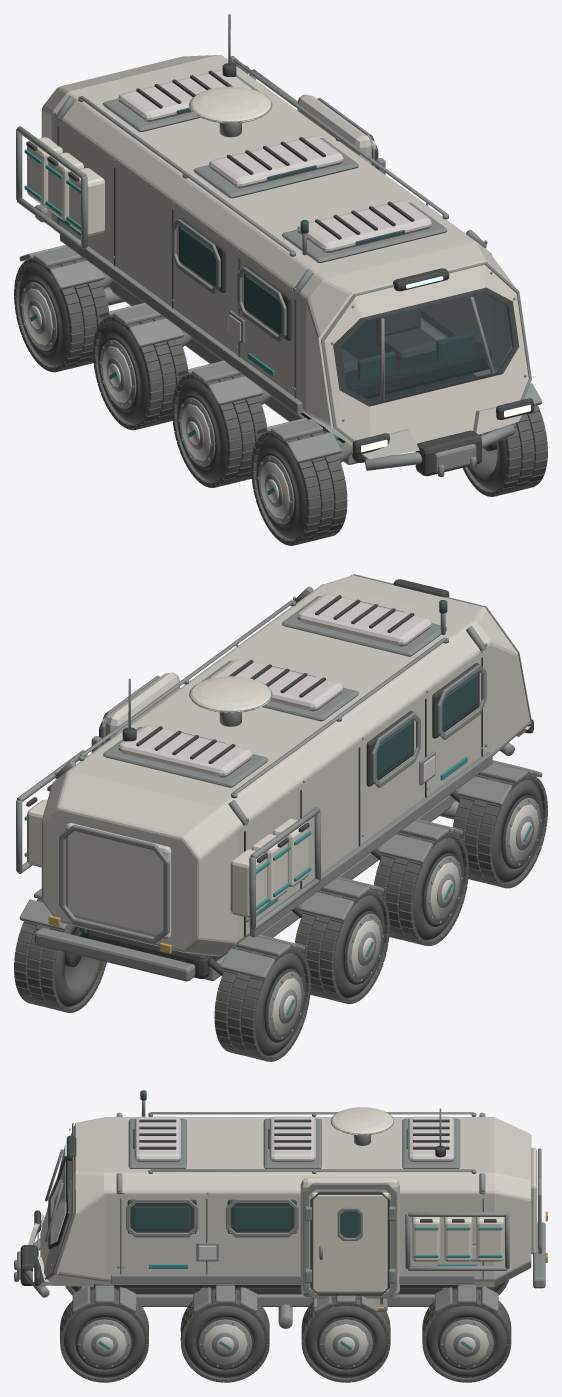
File: rover.glb
3 renders of one model, top to bottom at view 1: azimuth 30°, elevation 25°; view 2: azimuth 150°, elevation 25°; view 3: azimuth 270°, elevation 25°, orthographic. The views are drawn at different scales.
Parts seen in each view (by area): view 1: Boarding_Step__Brushed_titanium, Cabin__Panoramic_smoky_visor; view 2: Boarding_Step__Brushed_titanium; view 3: Boarding_Step__Brushed_titanium, Cabin__Panoramic_smoky_visor.
Part boxes in pixels (x1,y1,x2,y2): Boarding_Step__Brushed_titanium: (14,14,547,545); Cabin__Panoramic_smoky_visor: (341,292,514,403); Boarding_Step__Brushed_titanium: (14,574,547,1061); Boarding_Step__Brushed_titanium: (14,1090,547,1382); Cabin__Panoramic_smoky_visor: (48,1145,65,1245).
Bounding box in the file's own units: 3.19 × 3.86 × 7.52.
Materials: 4 (4 with a texture image).
